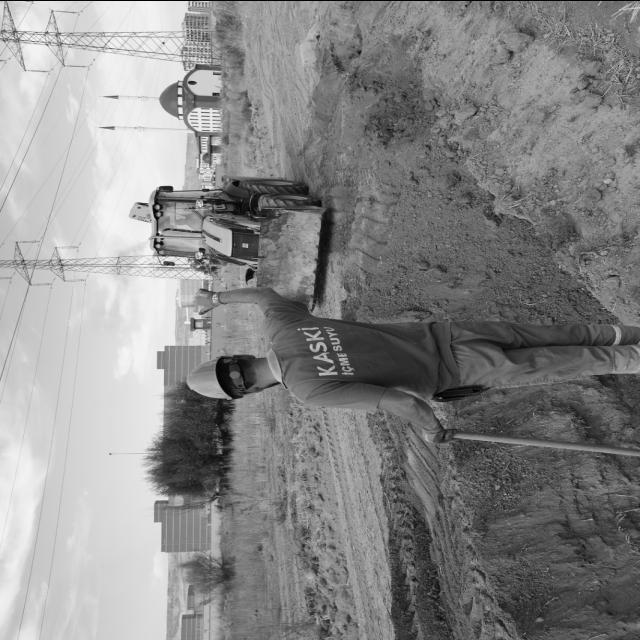safety_helmet: (187, 355, 234, 399)
